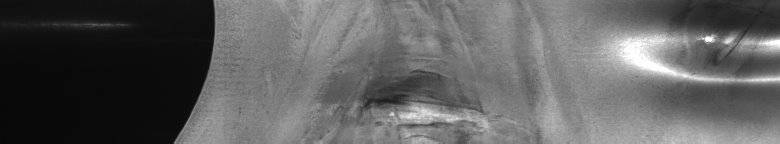ke: (655, 24, 776, 92)
